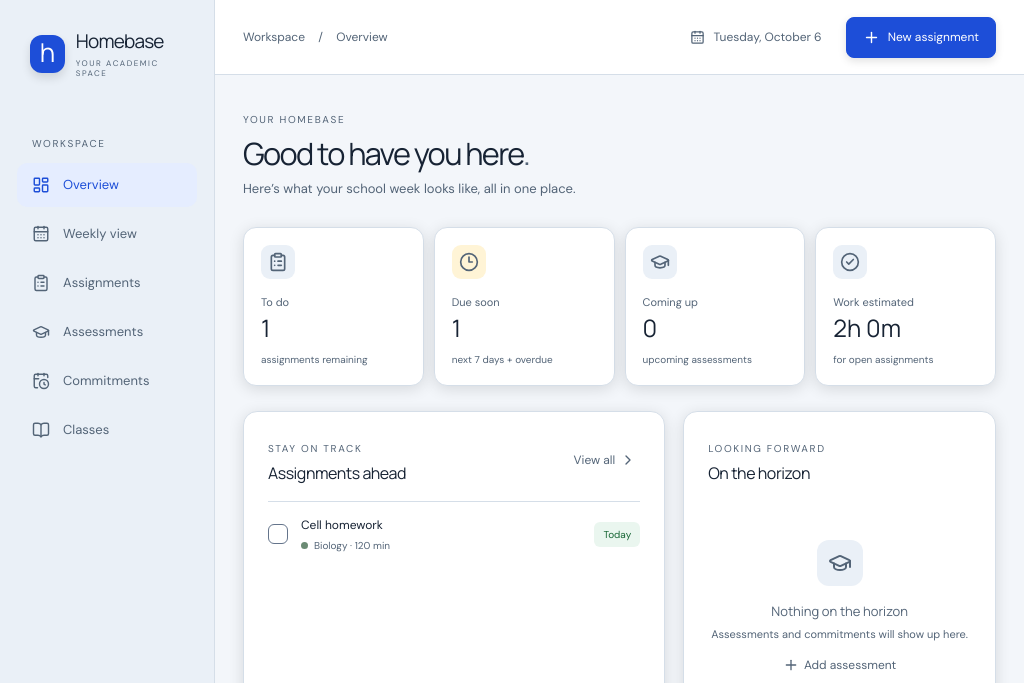
Scenario: availability CRUD and failed persistence › failed delete retains window/plan and does not advance reference
Click the button "Weekly view" at point(107, 234), box x1=17 y1=212 x2=197 y2=256
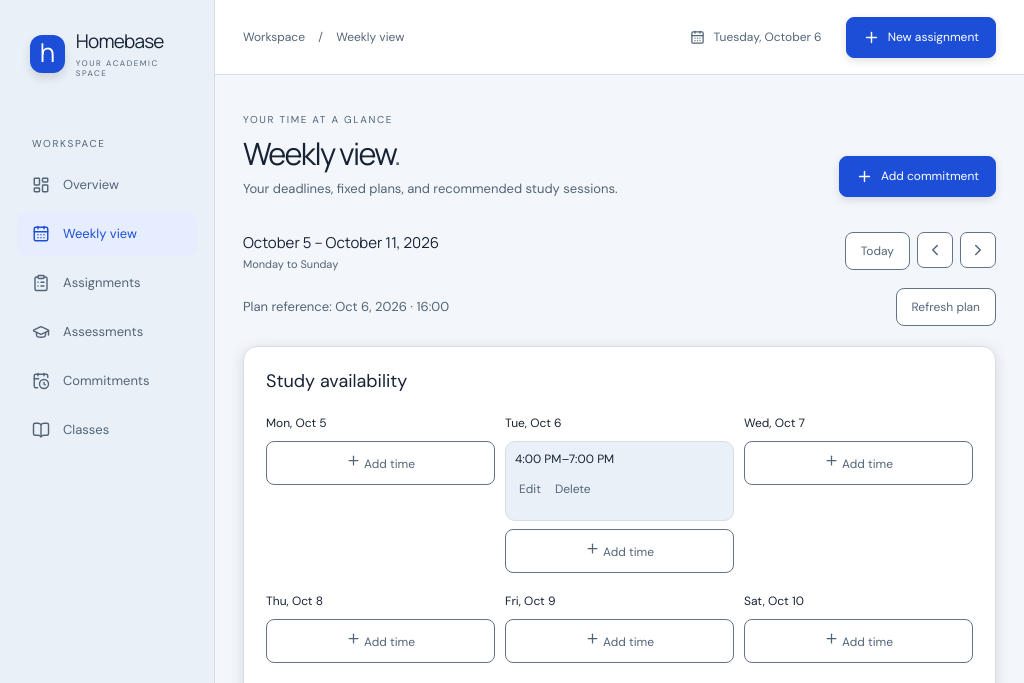
Click the button with aria-label "Delete availability Oct 6 16:00–19:00" at point(573, 489), box x1=551 y1=467 x2=595 y2=511
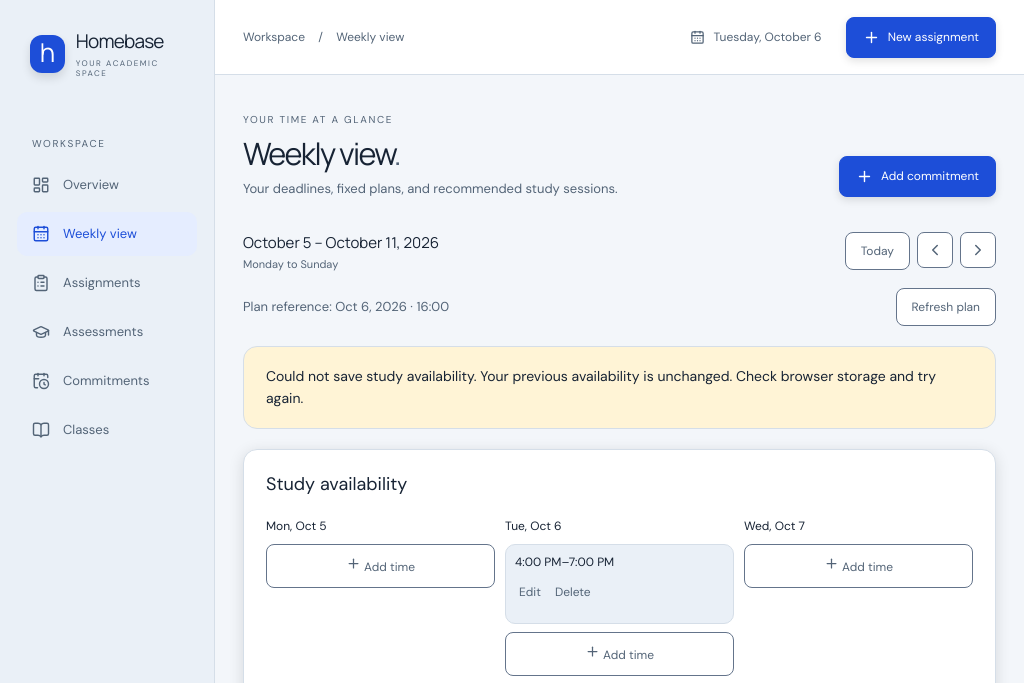
Result: the message shows "previous availability is unchanged" at x1=266 y1=367 x2=936 y2=407
